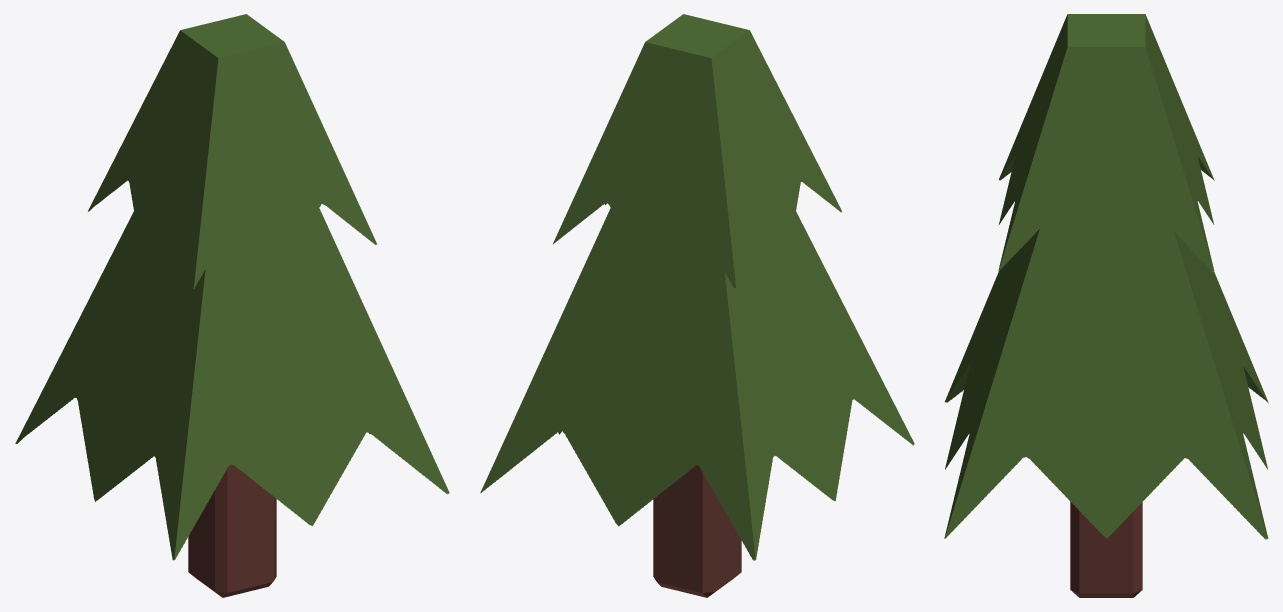
File: Tree 1.fbx
3 views of the same model, side by side, from view 1: azimuth 30°, elevation 25°; view 2: azimuth 150°, elevation 25°; view 3: azimuth 270°, elevation 25° (orthographic).
Visible parts, largest first — view 1: Tree_Crown_2, Tree_Crown_1, Trunk; view 2: Tree_Crown_2, Tree_Crown_1, Trunk; view 3: Tree_Crown_2, Tree_Crown_1, Trunk.
Part boxes in pixels (x1,y1,x2,y2): Tree_Crown_2: [15, 208, 449, 560]; Tree_Crown_1: [88, 14, 377, 289]; Trunk: [188, 464, 276, 597]; Tree_Crown_2: [480, 208, 914, 560]; Tree_Crown_1: [553, 14, 842, 289]; Trunk: [653, 465, 741, 597]; Tree_Crown_2: [944, 217, 1268, 539]; Tree_Crown_1: [998, 14, 1214, 271]; Trunk: [1070, 501, 1142, 597].
Size of the model in its own units: 0.9 by 1.7 by 0.9.
Materials: 1 (1 with a texture image).
